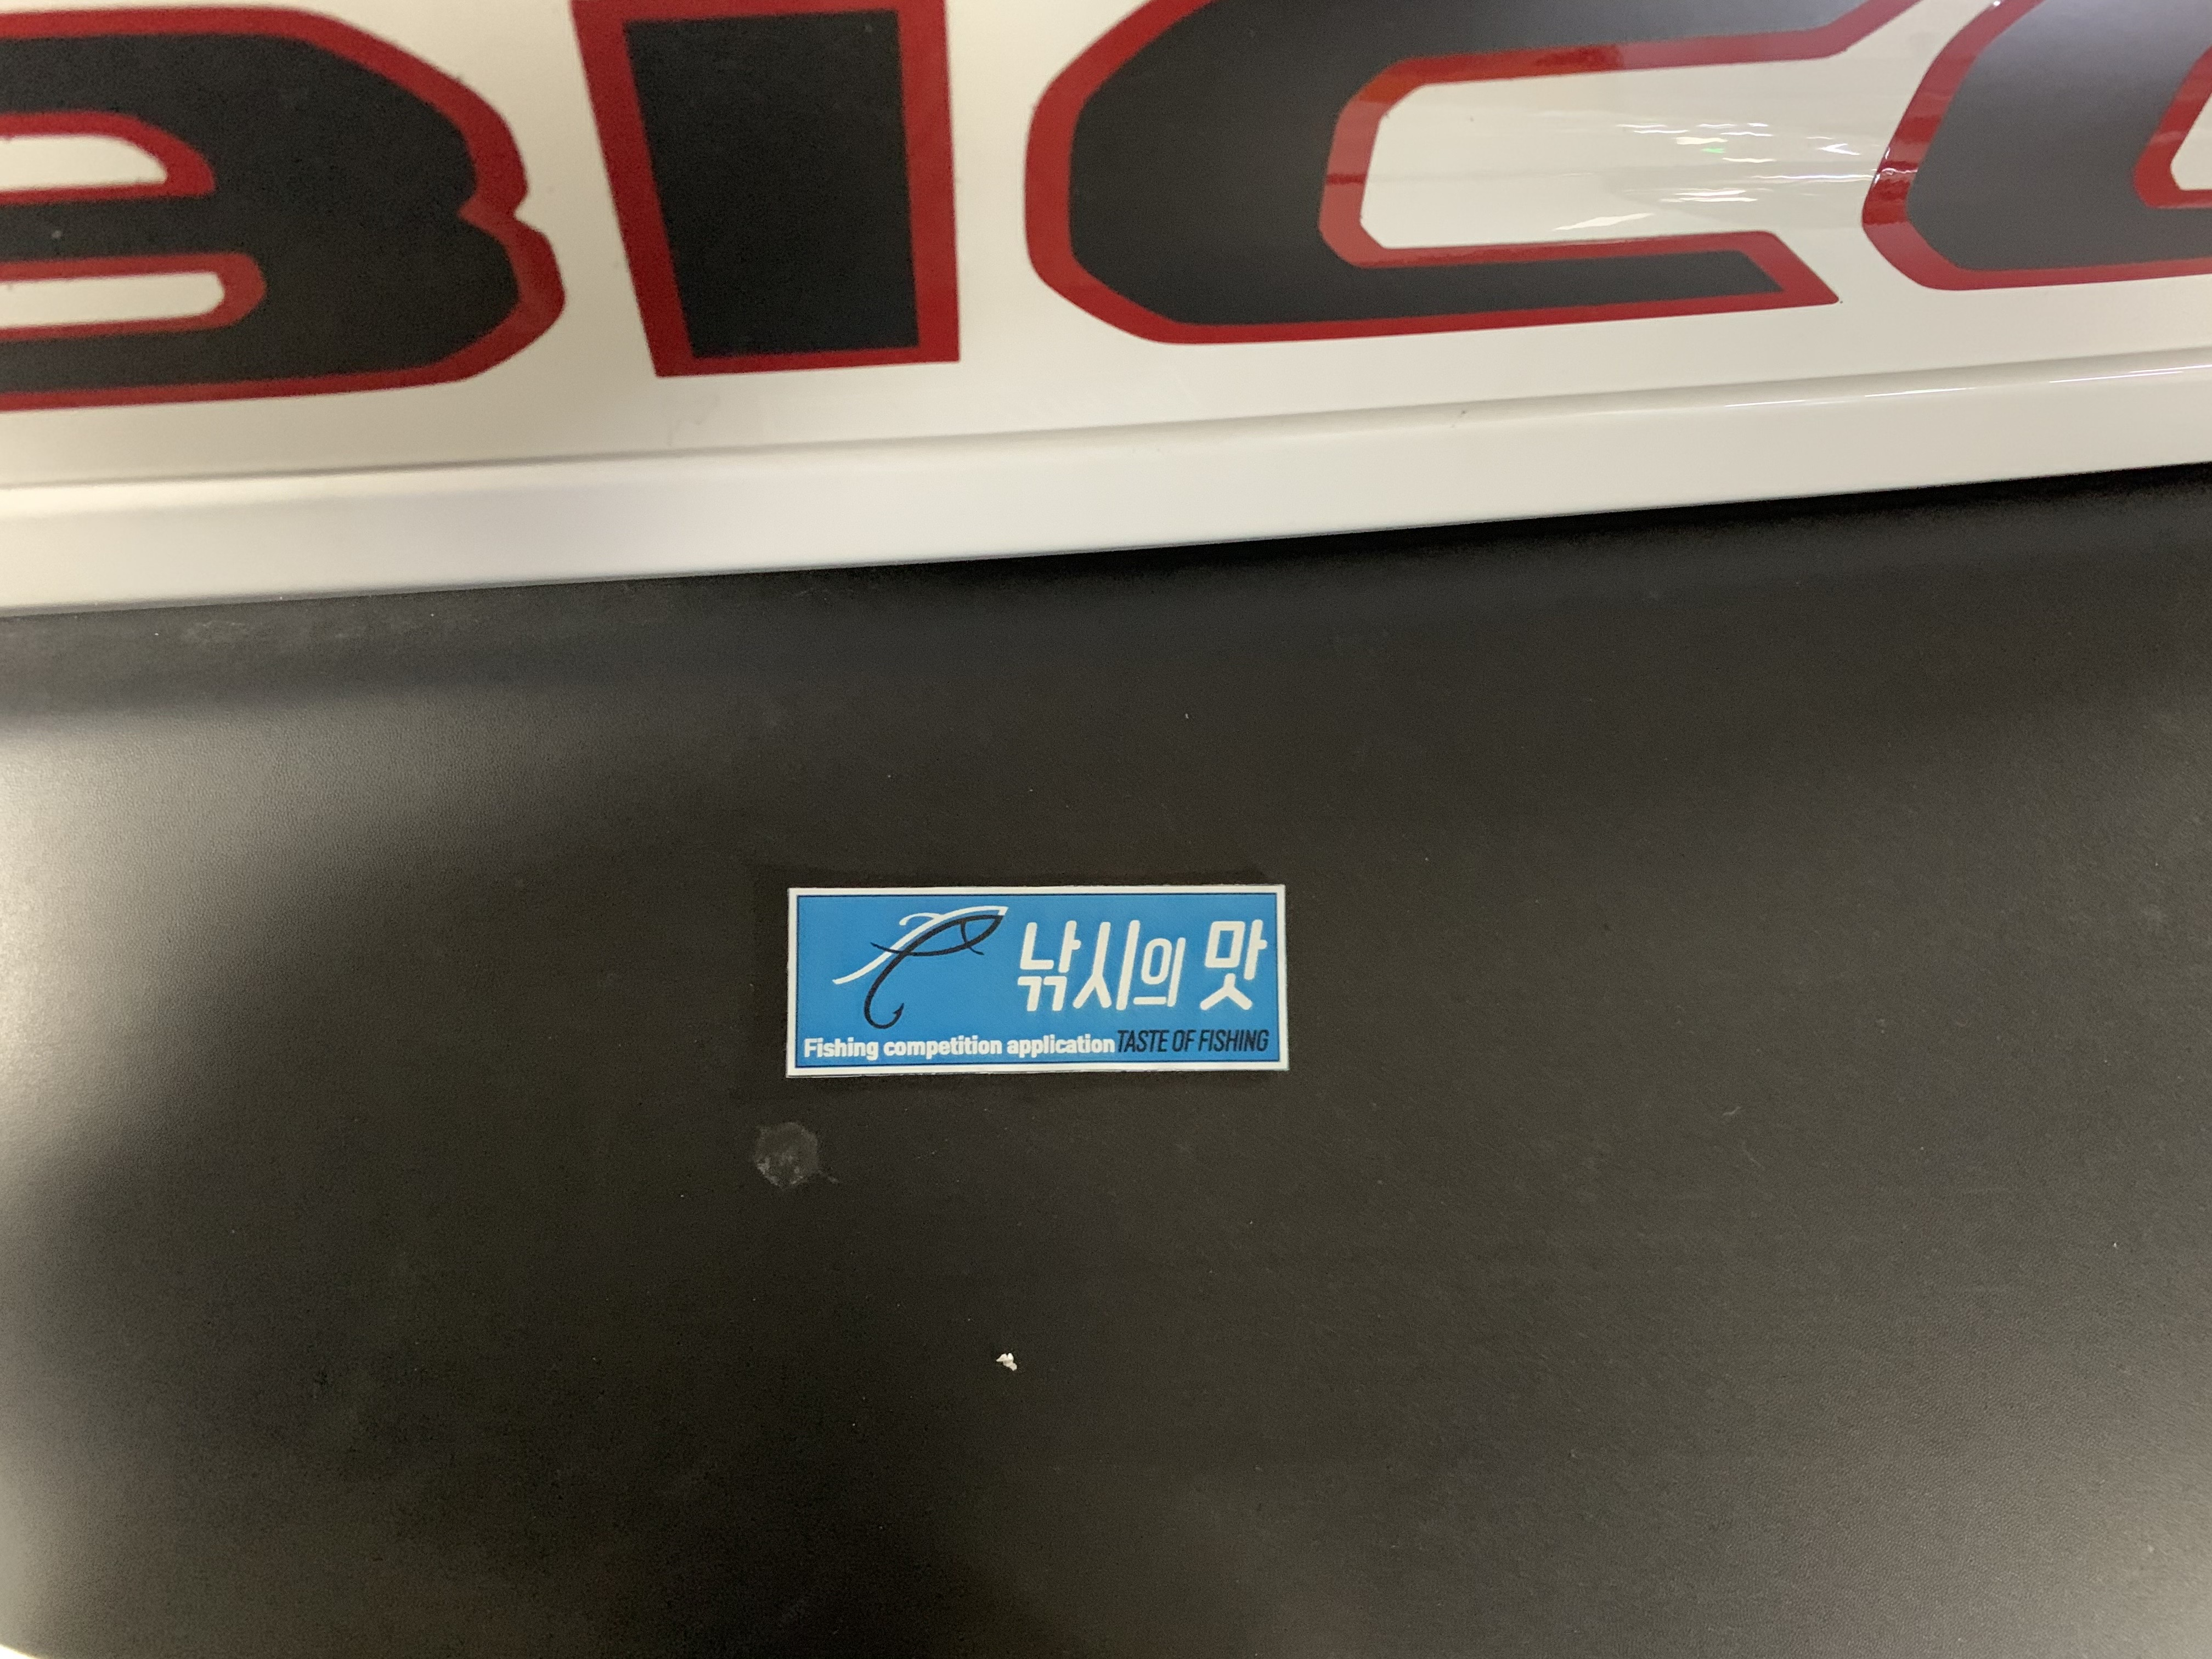tag: (787, 885, 1291, 1072)
